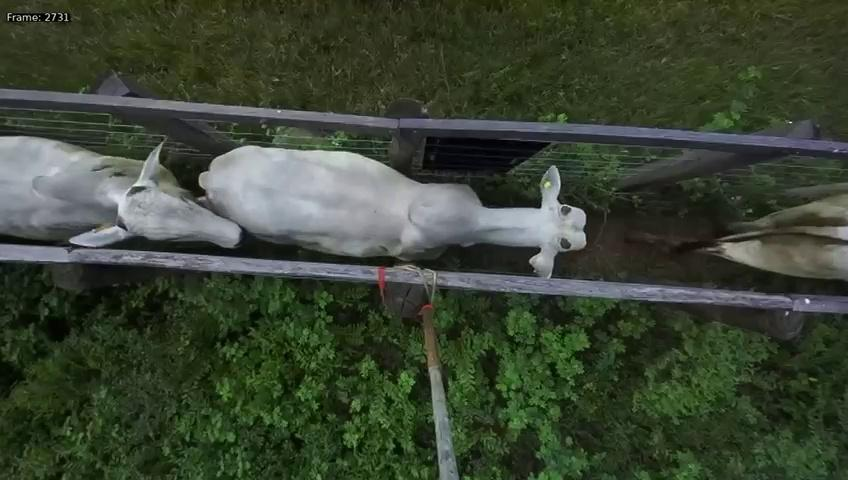cattle: (196, 124, 590, 277), (0, 119, 248, 259)
